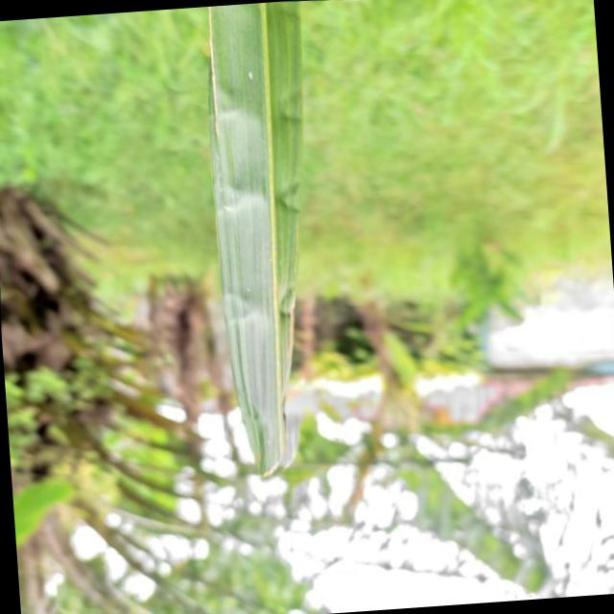Boron: (204, 0, 312, 481)
